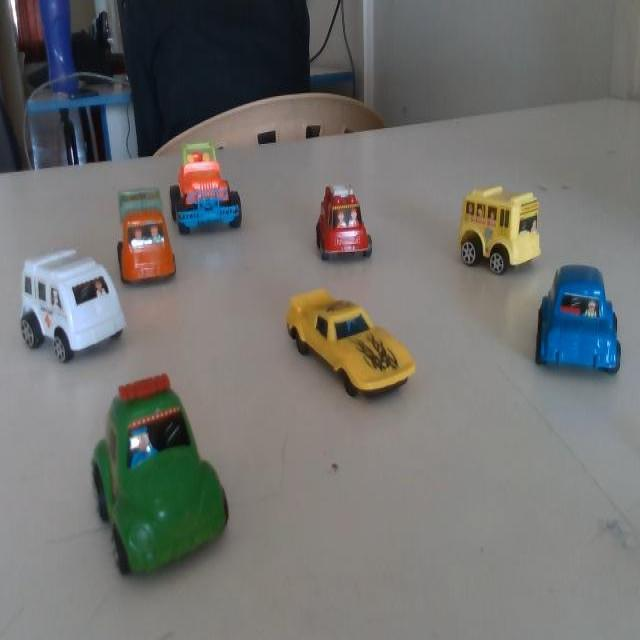car: (73, 378, 225, 560), (275, 276, 422, 411), (12, 238, 122, 374), (533, 261, 626, 383), (449, 184, 534, 282), (109, 174, 176, 290), (173, 133, 251, 232), (303, 173, 372, 272)
